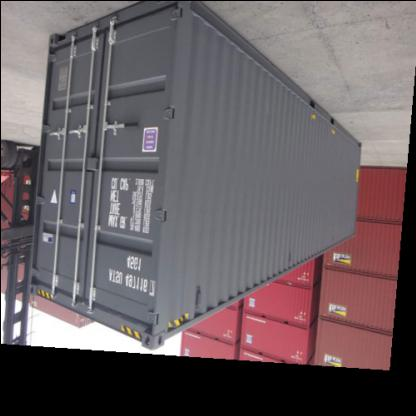Damage: (115, 186, 134, 224), (119, 114, 146, 128), (278, 248, 294, 267)
